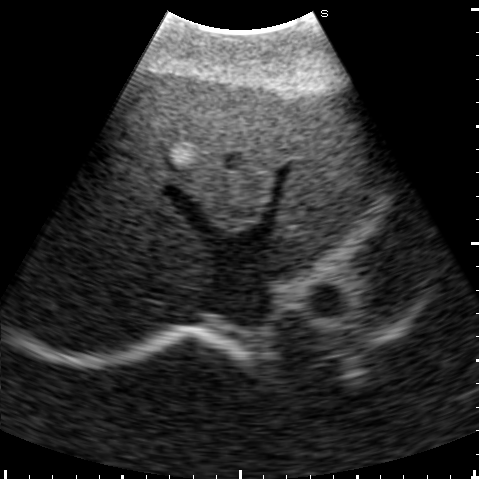S2: (268, 99, 374, 279)
S4: (116, 71, 290, 228)
S7: (31, 251, 158, 353)
S8: (69, 155, 202, 290)
Tumor: (170, 143, 193, 168)
